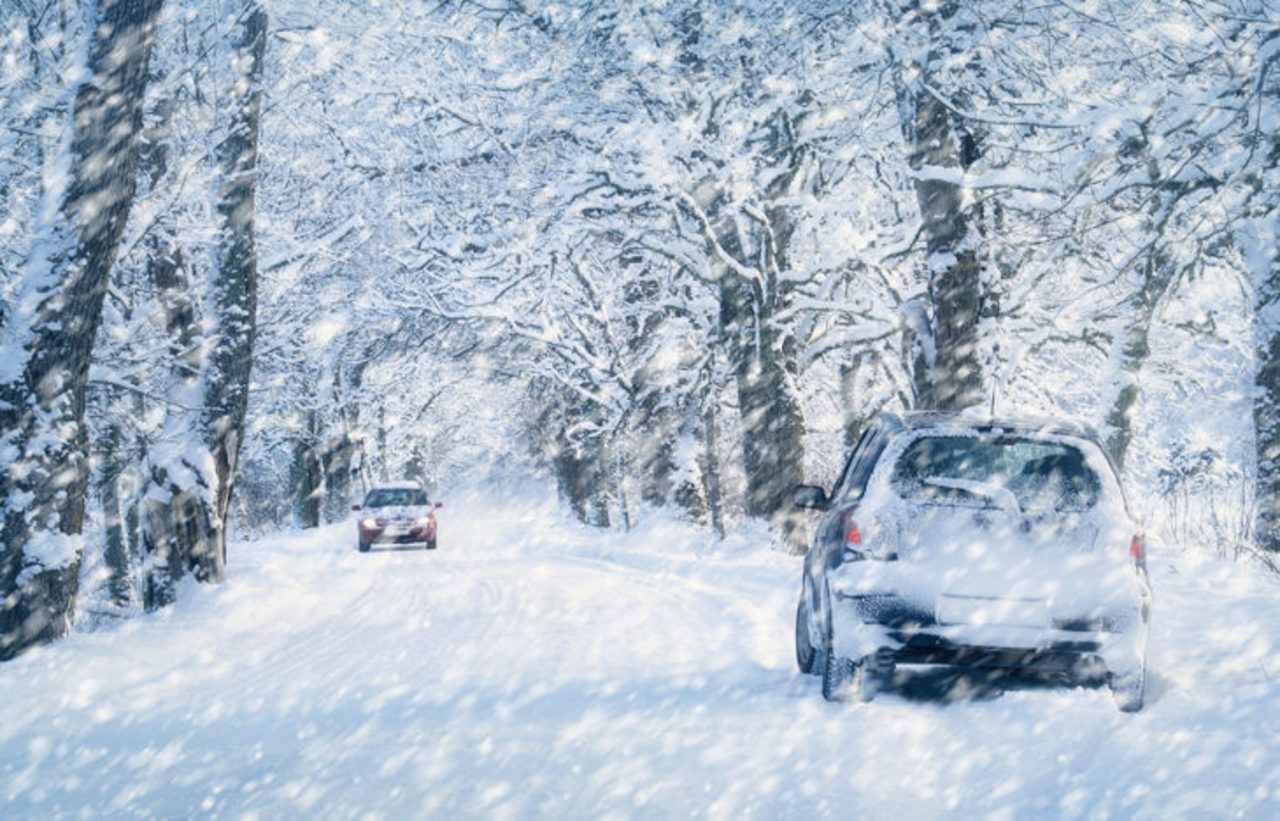car: (791, 409, 1143, 708), (355, 483, 438, 550)
